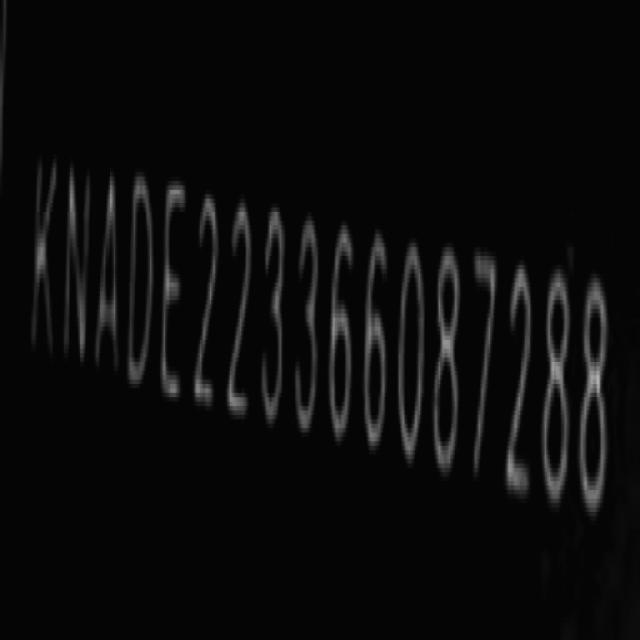0: (398, 235, 428, 472)
2: (506, 253, 536, 512), (194, 175, 222, 428), (225, 183, 253, 435)
3: (259, 194, 288, 442), (295, 201, 323, 447)
6: (328, 212, 359, 452), (362, 223, 391, 464)
7: (467, 239, 497, 499)
8: (581, 265, 612, 523), (544, 264, 574, 518), (432, 233, 462, 482)
A: (95, 161, 125, 392)
D: (126, 160, 158, 402)
E: (159, 172, 188, 416)
K: (30, 144, 60, 368)
N: (60, 148, 96, 382)
